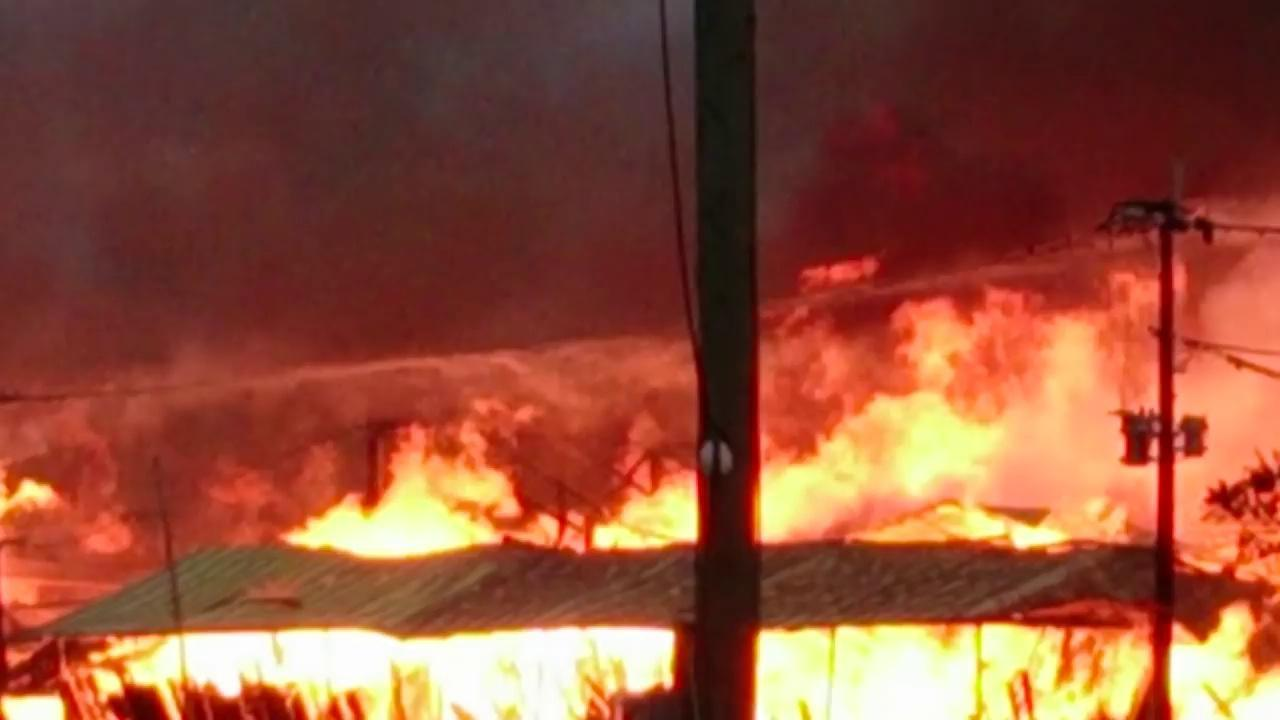Fire: (765, 213, 1280, 548), (278, 395, 705, 561), (756, 599, 1275, 718), (84, 625, 677, 719), (4, 470, 54, 517)
